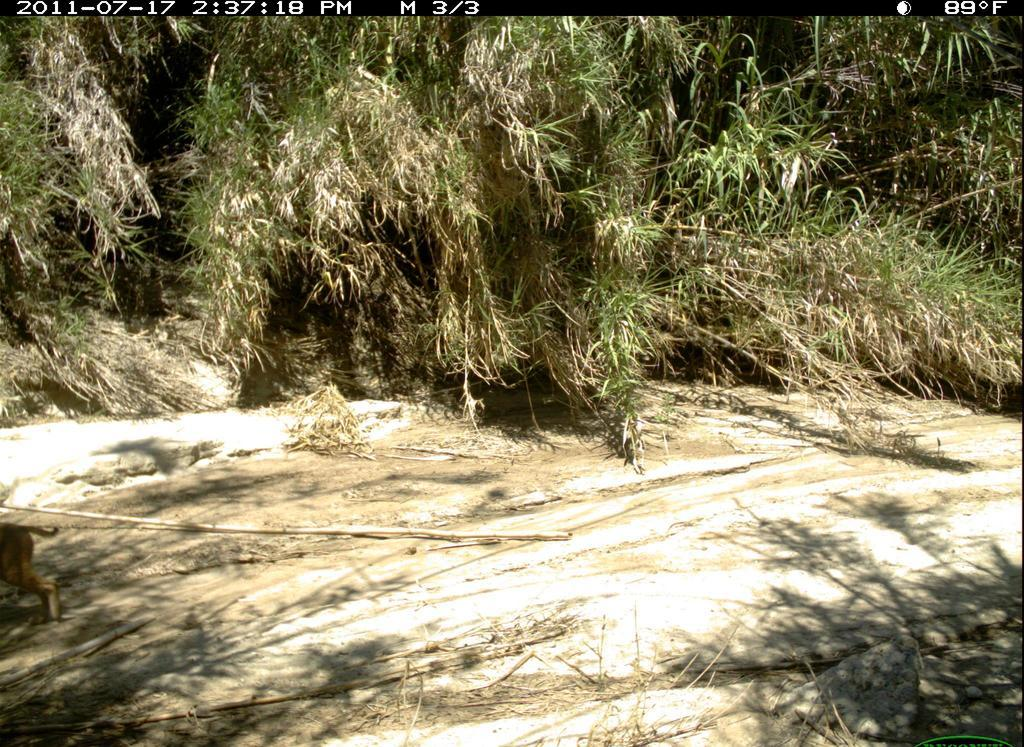bobcat: (1, 517, 72, 634)
